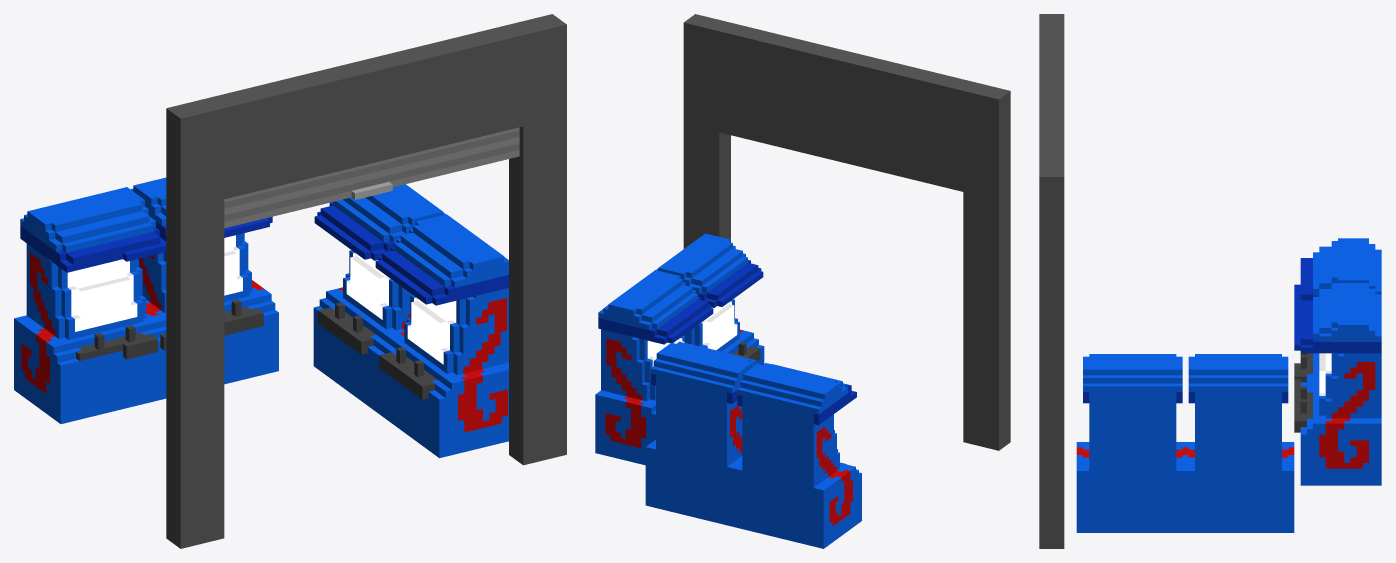
Rendered from arcade.glb.
3 renders of one model, left to right at view 1: azimuth 30°, elevation 25°; view 2: azimuth 150°, elevation 25°; view 3: azimuth 270°, elevation 25°, orthographic. The views are drawn at different scales.
Visible parts, largest first — view 1: ObjObject; view 2: ObjObject; view 3: ObjObject.
Boxes of the visible parts, bbox=[...] form: ObjObject: bbox=[14, 14, 566, 548]; ObjObject: bbox=[595, 14, 1010, 548]; ObjObject: bbox=[1039, 14, 1381, 548].
Size of the model in its own units: 6.2 by 6.6 by 5.5.
2 materials, 1 textured.
